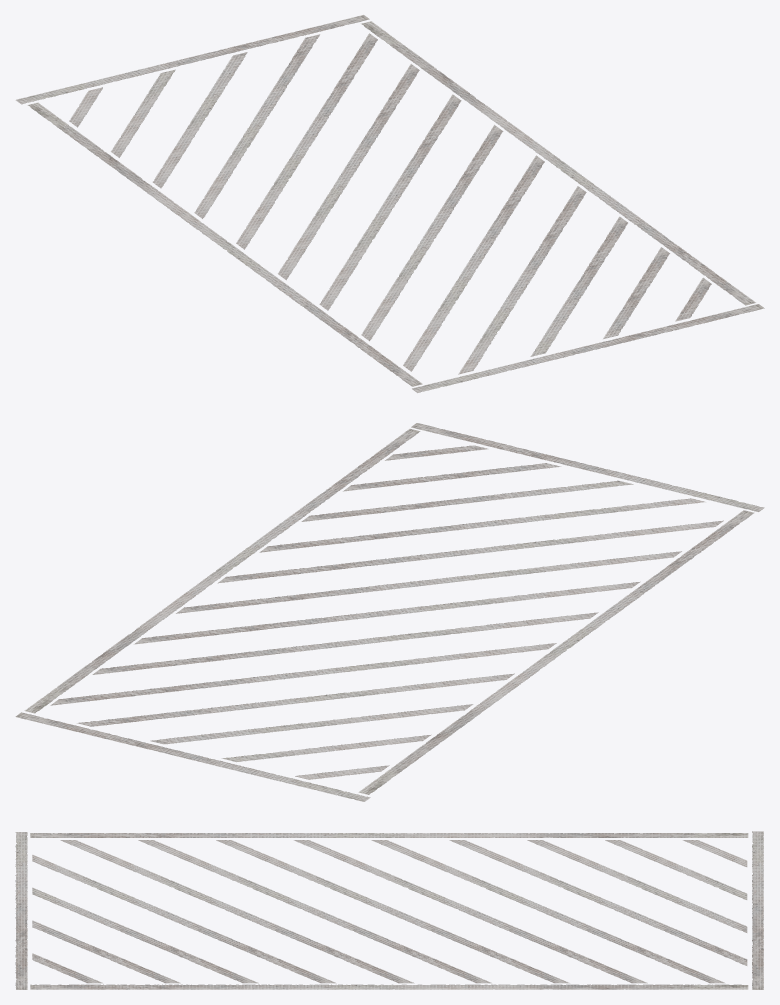
The model's file is CP_Diagonal_Hatch_Marking_01.fbx.
3 views of the same model, one above another, from view 1: azimuth 30°, elevation 25°; view 2: azimuth 150°, elevation 25°; view 3: azimuth 270°, elevation 25° (orthographic). The views are drawn at different scales.
Visible parts, largest first — view 1: CP_Diagonal_Hatch_Marking_01; view 2: CP_Diagonal_Hatch_Marking_01; view 3: CP_Diagonal_Hatch_Marking_01.
Boxes of the visible parts, x1,y1,x2,y2 form: CP_Diagonal_Hatch_Marking_01: (15, 15, 764, 392); CP_Diagonal_Hatch_Marking_01: (15, 423, 764, 801); CP_Diagonal_Hatch_Marking_01: (15, 831, 763, 989).
Bounding box in the file's own units: 420 × 0 × 838.
